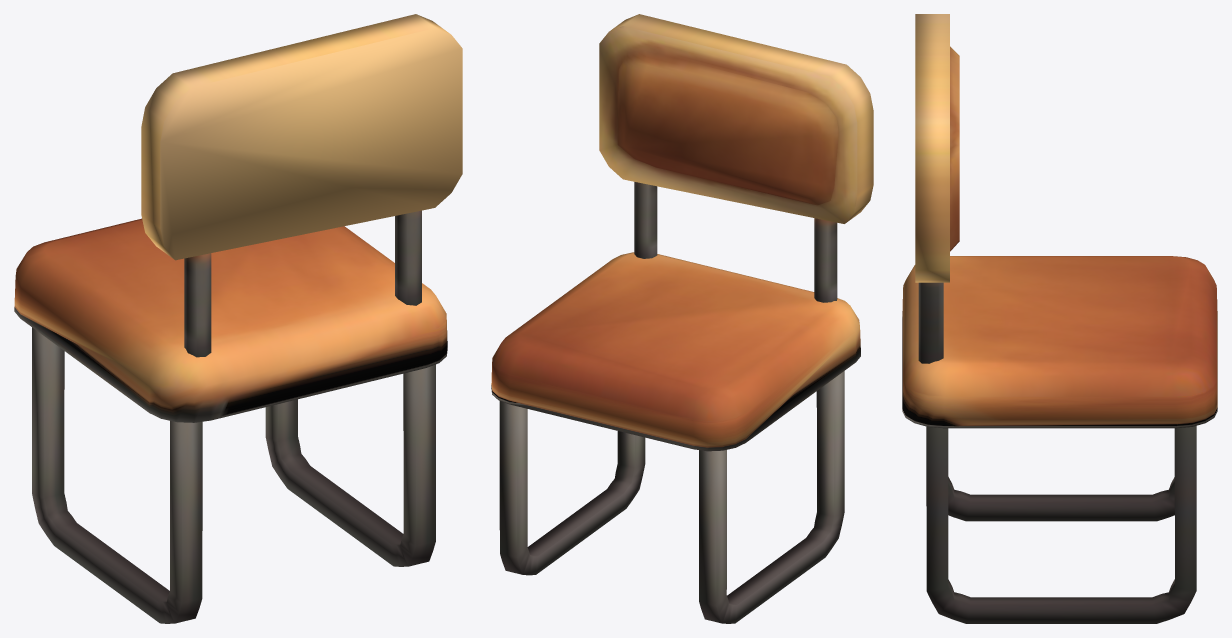
Rendered from chair.fbx.
3 views of the same model, side by side, from view 1: azimuth 30°, elevation 25°; view 2: azimuth 150°, elevation 25°; view 3: azimuth 270°, elevation 25° (orthographic). The views are drawn at different scales.
Visible parts, largest first — view 1: chair; view 2: chair; view 3: chair.
Boxes of the visible parts, x1,y1,x2,y2 form: chair: (14, 14, 462, 623); chair: (491, 14, 873, 623); chair: (902, 14, 1217, 623).
Bounding box in the file's own units: 31.67 × 55.66 × 31.81.
